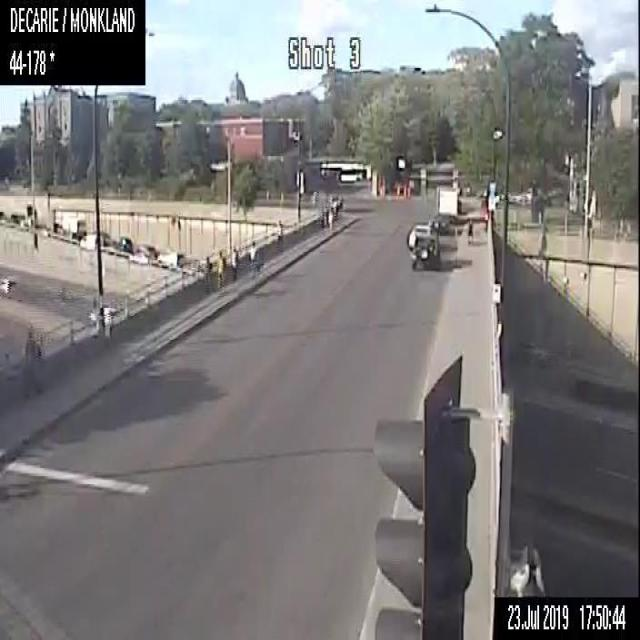bus: (318, 159, 372, 182)
pedestrian: (22, 331, 42, 398), (202, 256, 212, 287), (230, 243, 238, 280), (217, 250, 224, 286), (275, 220, 283, 251), (249, 240, 256, 269), (466, 218, 473, 245), (327, 207, 333, 228)
vehicle: (410, 237, 439, 270), (434, 183, 462, 215), (408, 220, 438, 247), (59, 215, 86, 242), (155, 249, 183, 269), (431, 211, 456, 233), (80, 231, 104, 252), (135, 243, 156, 261), (110, 236, 132, 253), (0, 274, 14, 294)
